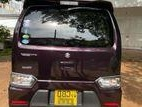car: (8, 0, 123, 107)
